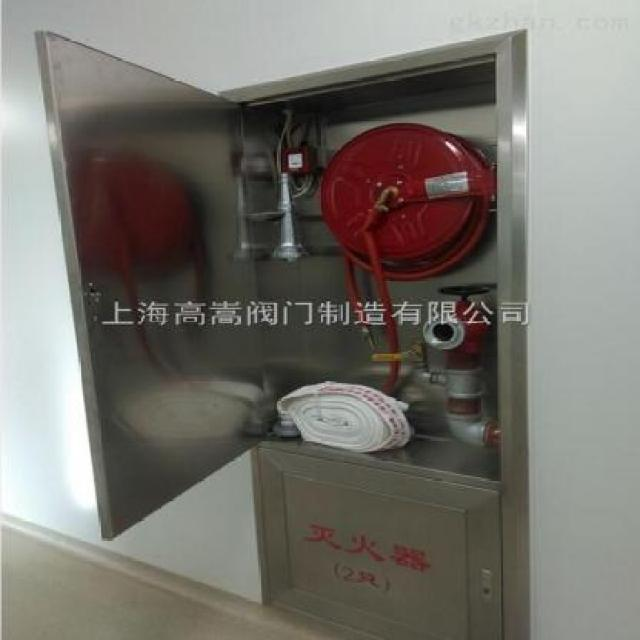firehydrant: (30, 23, 538, 640)
